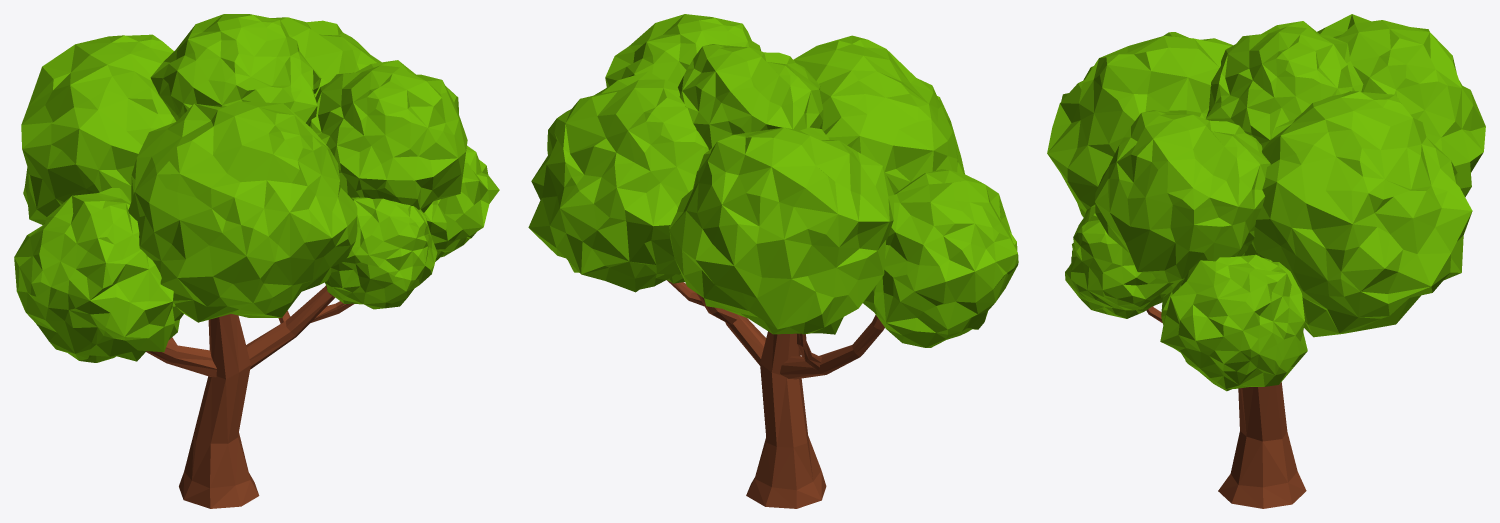
The model's file is Arbol4 .fbx.
3 views of the same model, side by side, from view 1: azimuth 30°, elevation 25°; view 2: azimuth 150°, elevation 25°; view 3: azimuth 270°, elevation 25° (orthographic). The views are drawn at different scales.
Parts seen in each view (by area): view 1: Arbol 4; view 2: Arbol 4; view 3: Arbol 4.
Part boxes in pixels (x1,y1,x2,y2): Arbol 4: (14,14,499,508); Arbol 4: (528,14,1018,508); Arbol 4: (1047,14,1485,508).
Size of the model in its own units: 818 by 762 by 638.
